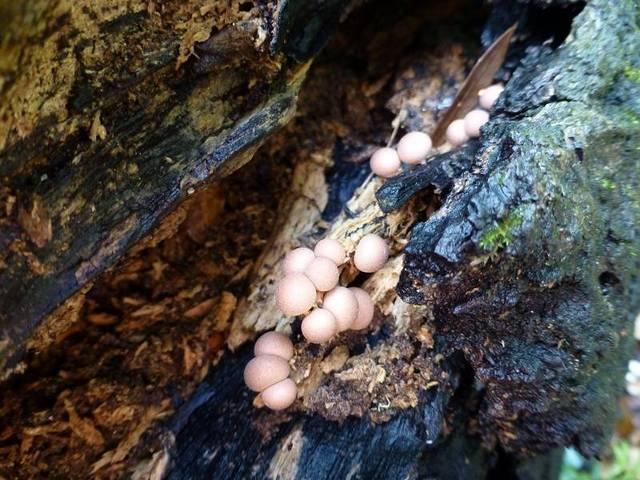poisonous_mushroom: (241, 20, 518, 411), (242, 232, 390, 410), (274, 232, 389, 345), (242, 330, 298, 410), (242, 353, 290, 392), (275, 272, 316, 316), (352, 233, 389, 273), (300, 307, 337, 344), (396, 130, 432, 165), (260, 376, 297, 410), (253, 330, 294, 360), (369, 146, 400, 178)
